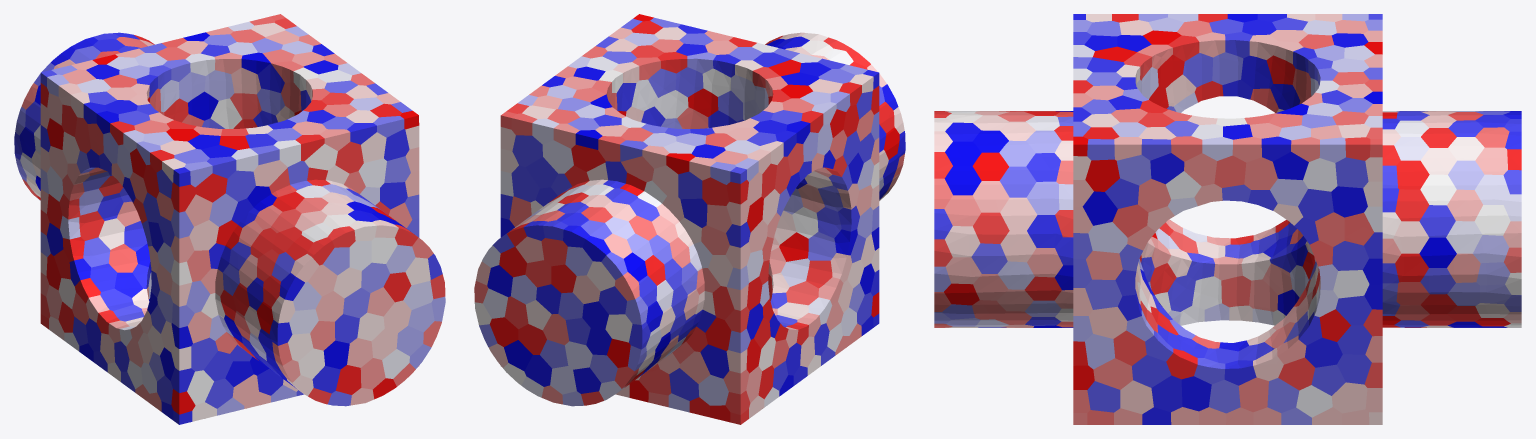
Rendered from Ours_1000_block_Iter54_RVD.obj.
3 renders of one model, left to right at view 1: azimuth 30°, elevation 25°; view 2: azimuth 150°, elevation 25°; view 3: azimuth 270°, elevation 25°, orthographic. The views are drawn at different scales.
Visible parts, largest first — view 1: 3D_Object; view 2: 3D_Object; view 3: 3D_Object.
Boxes of the visible parts, box(x1,y1,x2,y2) form: 3D_Object: box(14, 14, 445, 424); 3D_Object: box(474, 14, 905, 424); 3D_Object: box(934, 14, 1521, 424).
Bounding box in the file's own units: 20 × 20 × 38.
Materials: 1 (1 with a texture image).
